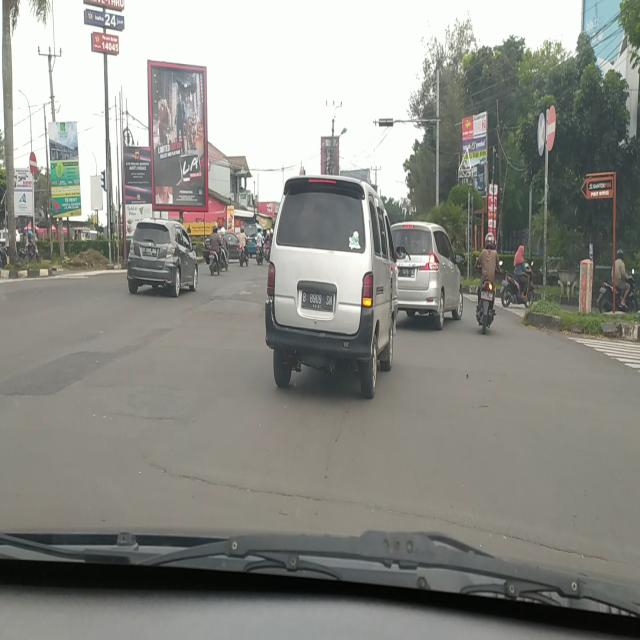Sewer Cover: (148, 454, 640, 571)
